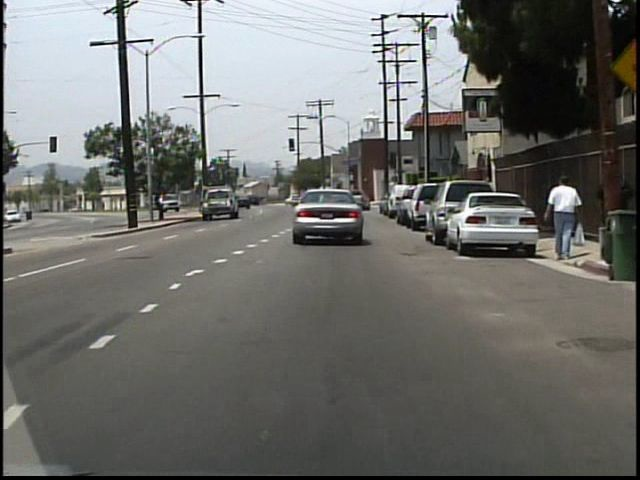person: (542, 175, 581, 265)
